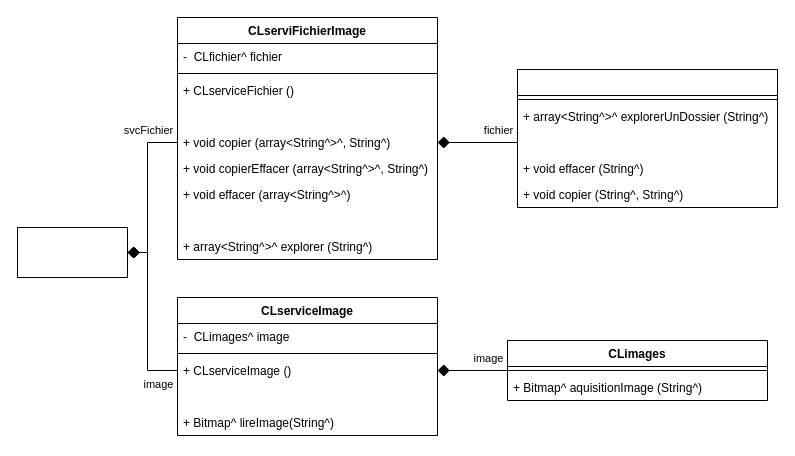
The diagram is 795 pixels wide and 456 high, and some of its shapes have lost their labels. The shapes that lost their labels are listed below. From the top down, each one's box as (x1, y1, x2, y2) in pixels, then its label:
(516, 68, 778, 208): CLfichier
(16, 226, 128, 278): «interface» My form
